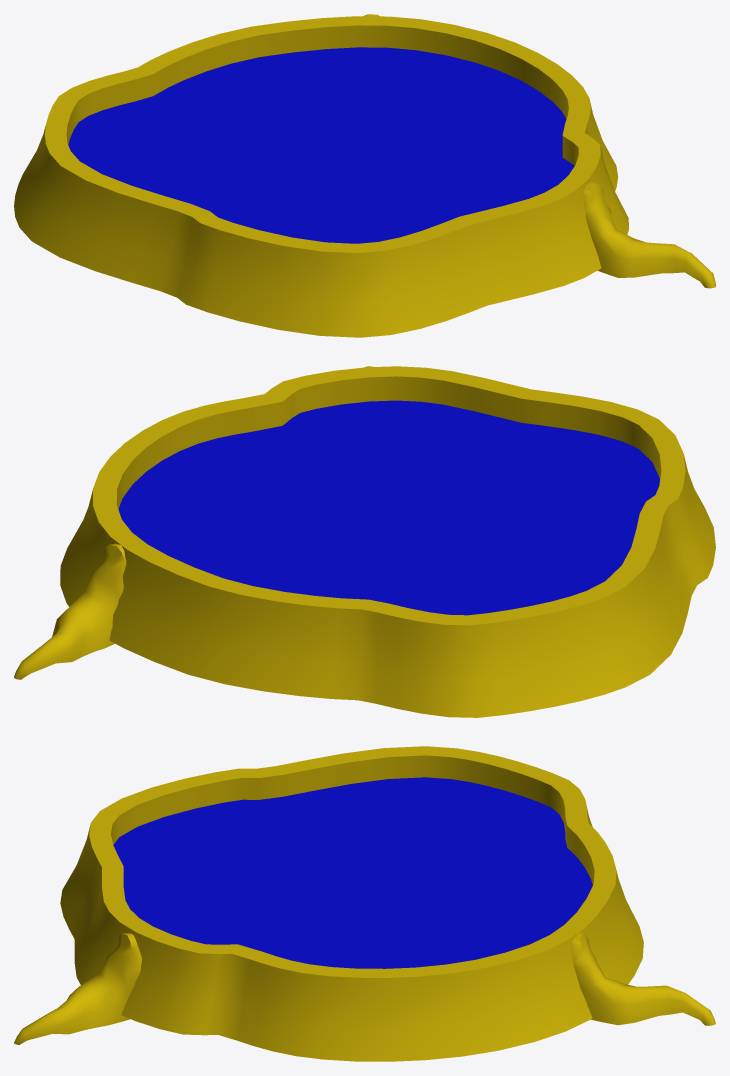
The model's file is Stump_l 1.fbx.
3 renders of one model, top to bottom at view 1: azimuth 30°, elevation 25°; view 2: azimuth 150°, elevation 25°; view 3: azimuth 270°, elevation 25°, orthographic. The views are drawn at different scales.
Parts seen in each view (by area): view 1: BezierCircle; view 2: BezierCircle; view 3: BezierCircle.
Boxes of the visible parts, bbox=[...] form: BezierCircle: bbox=[14, 14, 715, 337]; BezierCircle: bbox=[14, 366, 715, 717]; BezierCircle: bbox=[14, 746, 715, 1061].
Bounding box in the file's own units: 819 × 948 × 119.
